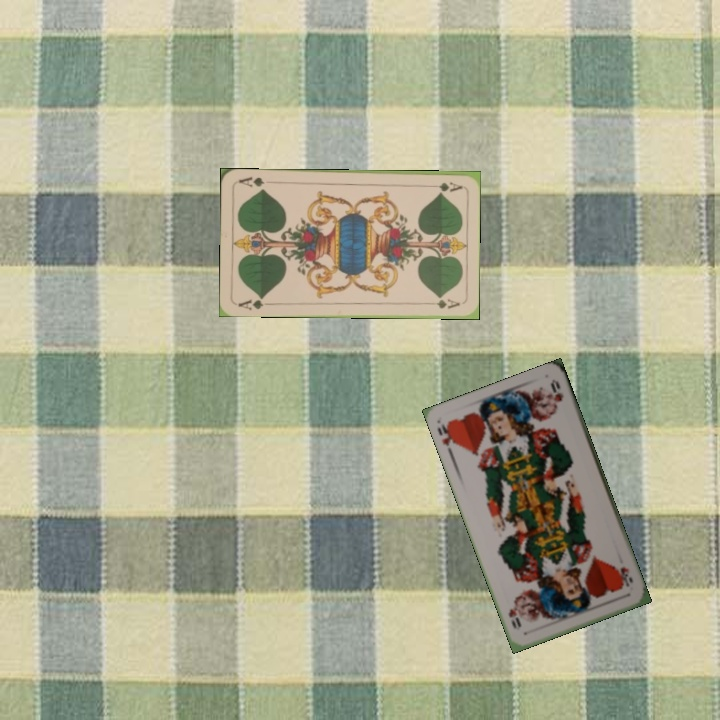GA: (234, 293, 274, 312), (424, 178, 464, 194)
HO: (433, 418, 459, 458), (616, 563, 635, 589)
